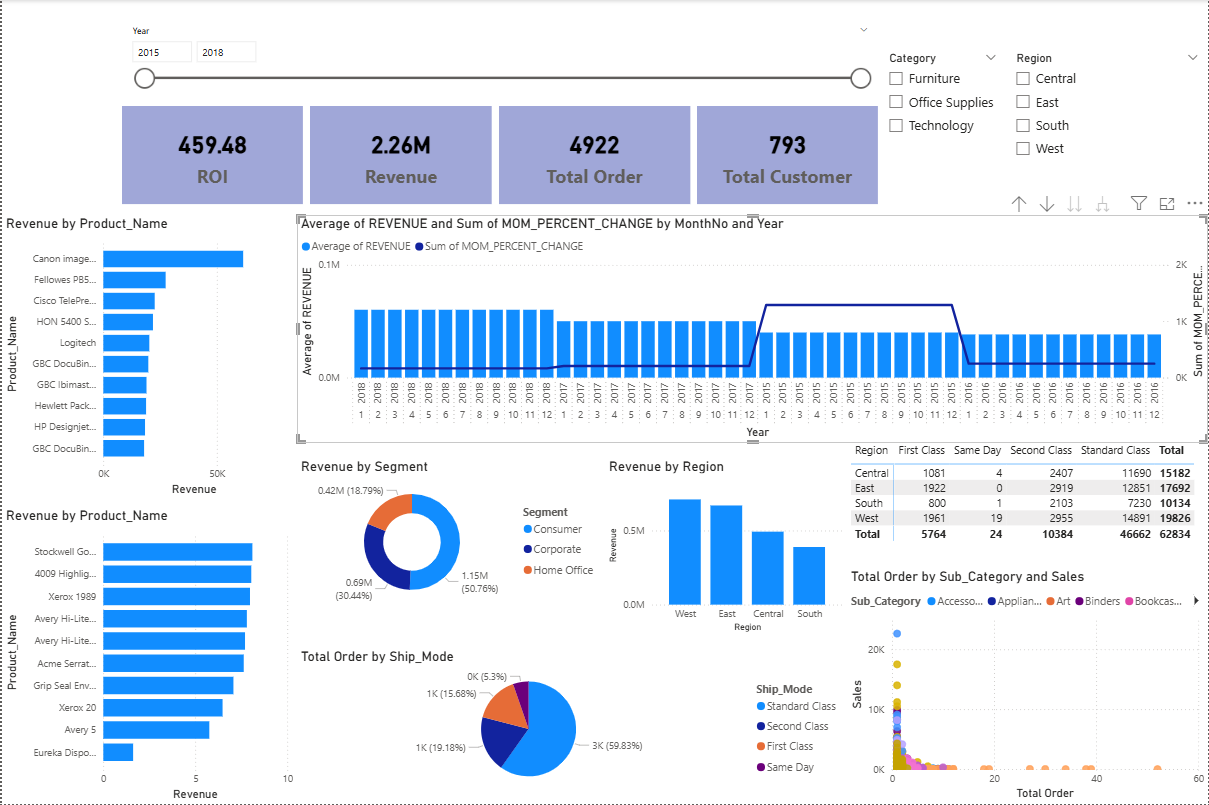

The dashboard page shown, as its layout file describes it:
{"tool":"powerbi","page":{"name":"Page 1","canvas":[1500,1000],"ordinal":0},"visuals":[{"type":"card","fields":{"Values":["superstore_data.Revenue"]},"box":[383.1,131.8,226.4,121.9],"z":0},{"type":"card","fields":{"Values":["superstore_data.Total Order"]},"box":[618.2,131.8,237.6,121.9],"z":1000},{"type":"card","fields":{"Values":["superstore_data.Total Customer"]},"box":[864.4,131.8,225.1,121.9],"z":2000},{"type":"card","fields":{"Values":["superstore_data.AOI"]},"box":[149.3,131.8,225.1,121.9],"z":3000},{"type":"slicer","fields":{"Values":["Dim_Date.Year"]},"box":[149.3,27.4,940.3,104.5],"z":4000},{"type":"slicer","fields":{"Values":["superstore_data.Region"]},"box":[1248.8,59.7,251.2,207.7],"z":5000},{"type":"slicer","fields":{"Values":["superstore_data.Category"]},"box":[1090.8,59.7,158,207.7],"z":6000},{"type":"donutChart","fields":{"Category":["superstore_data.Segment"],"Y":["superstore_data.Revenue"]},"box":[366.9,569.7,383.1,187.8],"z":7000},{"type":"columnChart","fields":{"Category":["superstore_data.Region"],"Y":["superstore_data.Revenue"]},"box":[750,569.7,301,221.4],"z":8000},{"type":"clusteredBarChart","fields":{"Category":["superstore_data.Product_Name"],"Y":["superstore_data.Revenue"]},"box":[0,267.4,366.9,353.2],"z":9000},{"type":"clusteredBarChart","fields":{"Category":["superstore_data.Product_Name"],"Y":["superstore_data.Revenue"]},"box":[0,630.6,366.9,369.4],"z":10000},{"type":"scatterChart","fields":{"X":["superstore_data.Total Order"],"Y":["superstore_data.Sales"],"Series":["superstore_data.Sub_Category"]},"box":[1051,706.5,449,293.5],"z":11000},{"type":"pieChart","fields":{"Category":["superstore_data.Ship_Mode"],"Y":["superstore_data.Total Order"]},"box":[366.9,806,684.1,180.3],"z":12000},{"type":"lineStackedColumnComboChart","fields":{"Category":["MOM.ORDER_MONTH","superstore_data.ORDER_YEAR"],"Y":["Avg(MOM.REVENUE)"],"Y2":["Sum(MOM.MOM_PERCENT_CHANGE)"]},"box":[366.9,267.4,1133.1,283.6],"z":13000},{"type":"pivotTable","fields":{"Columns":["superstore_data.Ship_Mode"],"Rows":["superstore_data.Region"],"Values":["Sum(superstore_data.Shipping_Duration )"]},"box":[1051,544.8,449,153],"z":14000}]}

Visuals, with their boxes on the page's 1500x1000 design canvas (x1, y1, x2, y2). These are canvas units, not pixel positions in the 1209x805 screenshot, which may show the page scaled, cropped or inside an application window:
card - superstore_data.Revenue: [x1=383, y1=132, x2=610, y2=254]
card - superstore_data.Total Order: [x1=618, y1=132, x2=856, y2=254]
card - superstore_data.Total Customer: [x1=864, y1=132, x2=1090, y2=254]
card - superstore_data.AOI: [x1=149, y1=132, x2=374, y2=254]
slicer - Dim_Date.Year: [x1=149, y1=27, x2=1090, y2=132]
slicer - superstore_data.Region: [x1=1249, y1=60, x2=1500, y2=267]
slicer - superstore_data.Category: [x1=1091, y1=60, x2=1249, y2=267]
donutChart - superstore_data.Segment x superstore_data.Revenue: [x1=367, y1=570, x2=750, y2=758]
columnChart - superstore_data.Region x superstore_data.Revenue: [x1=750, y1=570, x2=1051, y2=791]
clusteredBarChart - superstore_data.Product_Name x superstore_data.Revenue: [x1=0, y1=267, x2=367, y2=621]
clusteredBarChart - superstore_data.Product_Name x superstore_data.Revenue: [x1=0, y1=631, x2=367, y2=1000]
scatterChart - superstore_data.Total Order x superstore_data.Sales: [x1=1051, y1=706, x2=1500, y2=1000]
pieChart - superstore_data.Ship_Mode x superstore_data.Total Order: [x1=367, y1=806, x2=1051, y2=986]
lineStackedColumnComboChart - MOM.ORDER_MONTH x superstore_data.ORDER_YEAR: [x1=367, y1=267, x2=1500, y2=551]
pivotTable - superstore_data.Ship_Mode x superstore_data.Region: [x1=1051, y1=545, x2=1500, y2=698]
